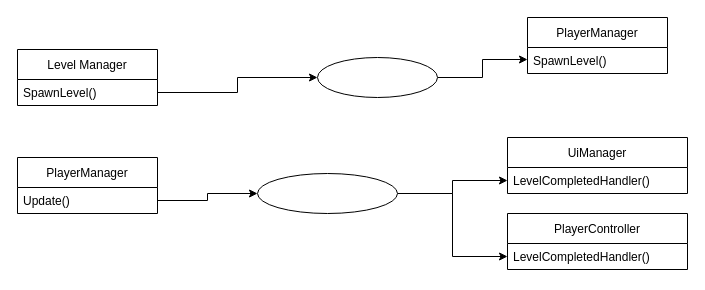
Some shapes in this 705 by 290 pixel diagram are drawn without their labels. The shapes that lost their labels are listed below. From the top down, each one's centre as x and y in pixels, then its label:
the point at 377,77: LevelSpawned
the point at 327,193: LevelCompleted
